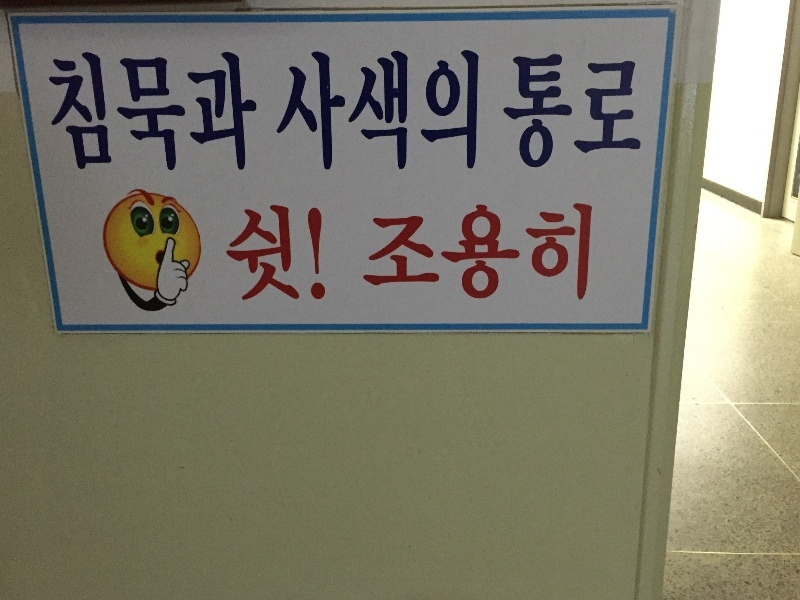text: (17, 35, 32, 174), (33, 35, 48, 174), (49, 35, 64, 174), (65, 35, 80, 174), (81, 35, 96, 174), (97, 35, 112, 174), (113, 35, 128, 174), (129, 35, 144, 174), (145, 35, 160, 174), (161, 35, 176, 174), (177, 35, 192, 174), (193, 35, 208, 174), (209, 35, 224, 174), (225, 35, 240, 174), (241, 35, 256, 174), (305, 47, 320, 177), (321, 47, 336, 177), (337, 47, 352, 177), (353, 47, 368, 177), (369, 47, 384, 177), (385, 47, 400, 177), (401, 47, 416, 177), (417, 47, 432, 177), (433, 47, 448, 177), (449, 47, 464, 177), (465, 47, 480, 177), (257, 35, 270, 174), (513, 52, 528, 172), (529, 52, 544, 172), (545, 52, 560, 172), (561, 52, 576, 172), (577, 52, 592, 172), (593, 52, 608, 172), (609, 52, 624, 172), (625, 52, 640, 172), (225, 196, 240, 305), (241, 196, 256, 305), (257, 196, 272, 305), (273, 196, 288, 305), (289, 196, 304, 305), (305, 196, 320, 305), (385, 200, 400, 304), (401, 200, 416, 304), (417, 200, 432, 304), (433, 200, 448, 304), (449, 200, 464, 304), (465, 200, 480, 304), (481, 200, 496, 304), (497, 200, 512, 304), (513, 200, 528, 304), (529, 200, 544, 304), (545, 200, 560, 304), (561, 200, 576, 304), (577, 200, 592, 304), (293, 47, 304, 177), (374, 200, 384, 304), (321, 196, 329, 305), (217, 196, 224, 305), (641, 52, 646, 172), (510, 52, 512, 172), (481, 47, 482, 177), (593, 200, 594, 304)
